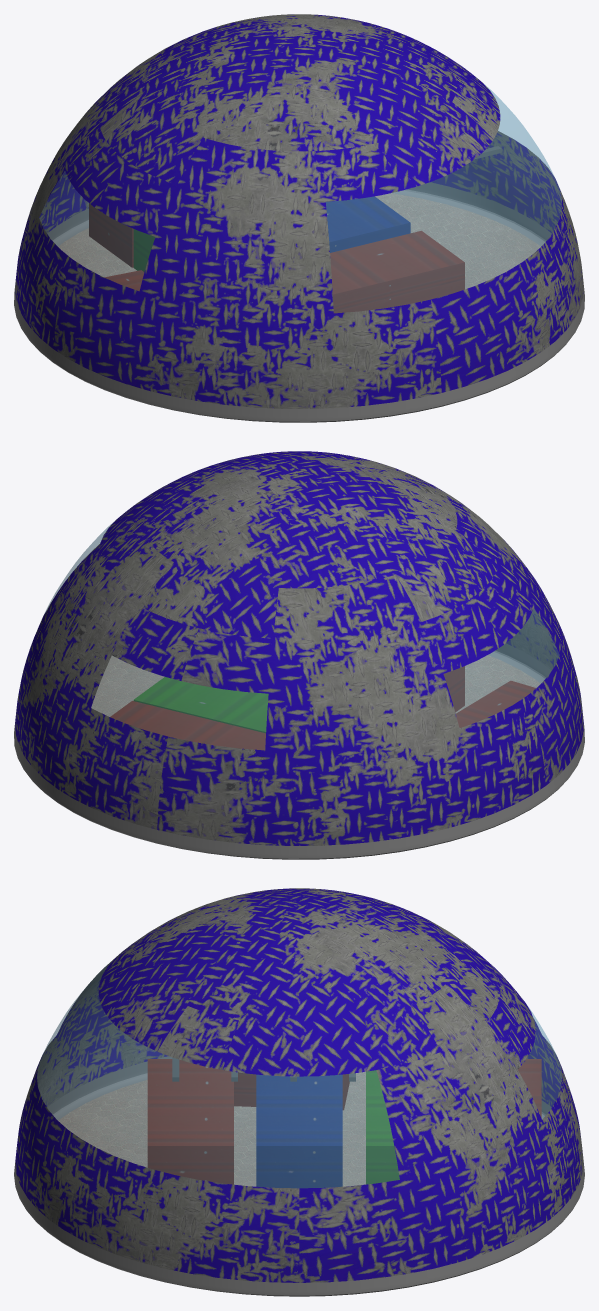
Rendered from Abfallentsorgungsanlage.gltf.
3 views of the same model, one above another, from view 1: azimuth 30°, elevation 25°; view 2: azimuth 150°, elevation 25°; view 3: azimuth 270°, elevation 25° (orthographic).
Visible parts, largest first — view 1: Abfallenstorgungsanlage; view 2: Abfallenstorgungsanlage; view 3: Abfallenstorgungsanlage.
Part boxes in pixels (<box>): Abfallenstorgungsanlage: <box>14,14,584,422</box>; Abfallenstorgungsanlage: <box>14,451,584,859</box>; Abfallenstorgungsanlage: <box>14,888,584,1296</box>.
Bounding box in the file's own units: 17.8 × 9.07 × 17.8.
Materials: 8 (5 with a texture image).
